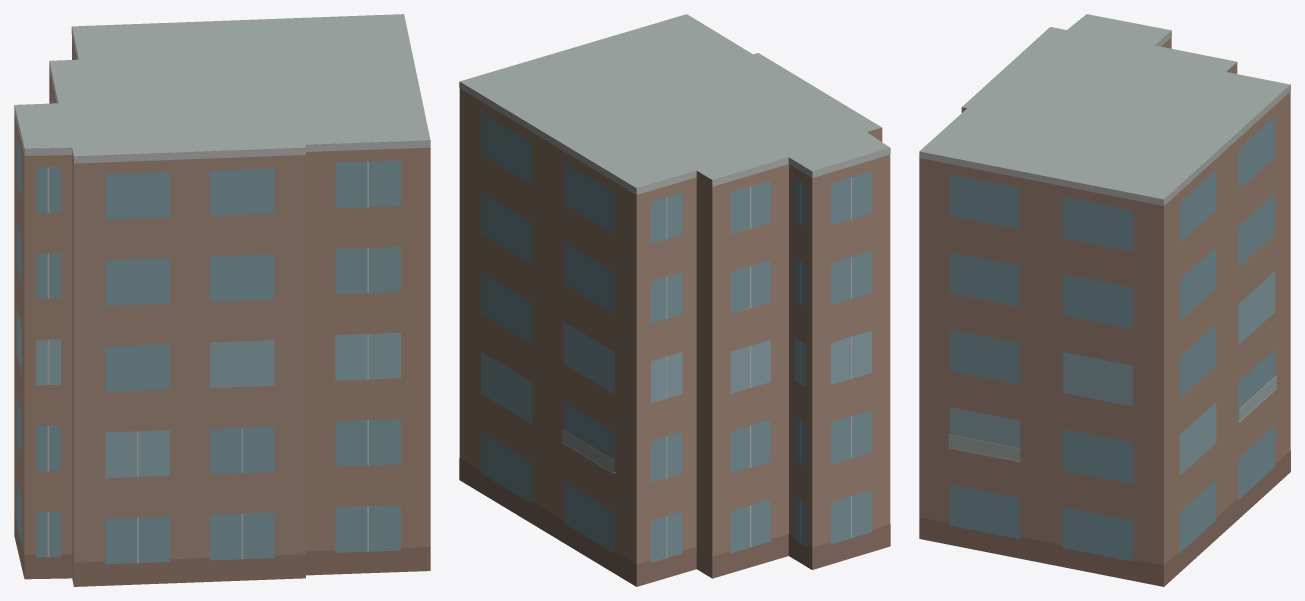
The model's file is survey-upis-32632953.glb.
The picture shows the model from 3 angles, left to right: view 1: azimuth 30°, elevation 25°; view 2: azimuth 150°, elevation 25°; view 3: azimuth 270°, elevation 25°; orthographic projection. The views are drawn at different scales.
Parts seen in each view (by area): view 1: survey-upis-32632953.tmp; view 2: survey-upis-32632953.tmp; view 3: survey-upis-32632953.tmp.
Part boxes in pixels (left/top/right/bottom): survey-upis-32632953.tmp: left=14, top=14, right=430, bottom=586; survey-upis-32632953.tmp: left=459, top=14, right=890, bottom=586; survey-upis-32632953.tmp: left=919, top=14, right=1290, bottom=586.
Bounding box in the file's own units: 14.8 × 14.4 × 12.53.
